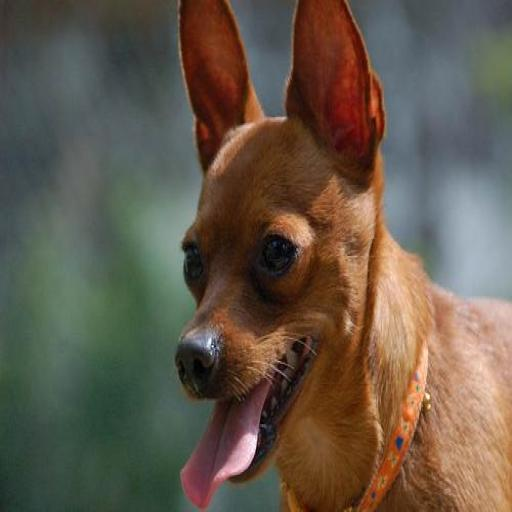dog_face: (164, 9, 390, 472)
